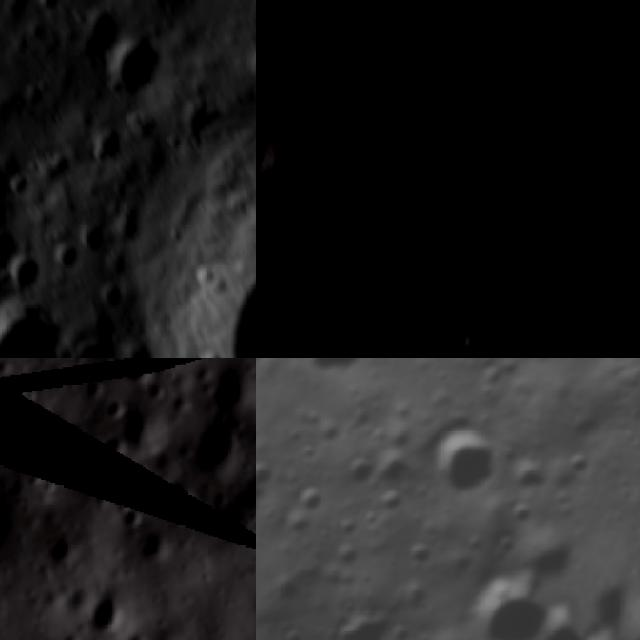crater: (159, 118, 256, 358), (416, 407, 506, 500), (468, 571, 562, 640), (0, 295, 84, 358), (102, 33, 166, 110), (71, 8, 130, 75), (570, 162, 624, 227), (200, 358, 255, 416), (527, 42, 583, 98), (191, 415, 245, 472), (83, 585, 135, 639), (512, 170, 562, 220), (506, 316, 563, 358), (299, 138, 347, 186), (256, 5, 297, 60), (256, 120, 290, 186), (0, 366, 42, 408), (134, 471, 175, 513), (408, 239, 448, 282), (166, 477, 204, 520), (301, 358, 368, 378), (445, 324, 480, 358), (92, 393, 126, 427), (118, 358, 155, 389), (235, 463, 256, 517), (56, 419, 87, 453), (94, 436, 130, 464), (589, 335, 628, 358), (16, 422, 50, 448), (78, 372, 105, 398)
